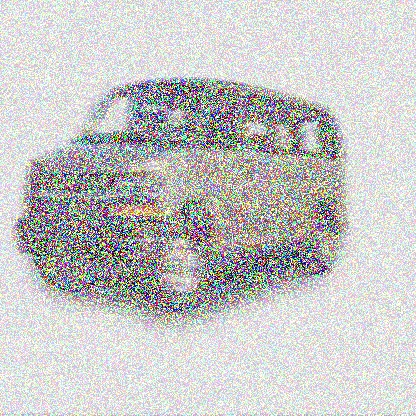Vehicle: (15, 70, 352, 316)
